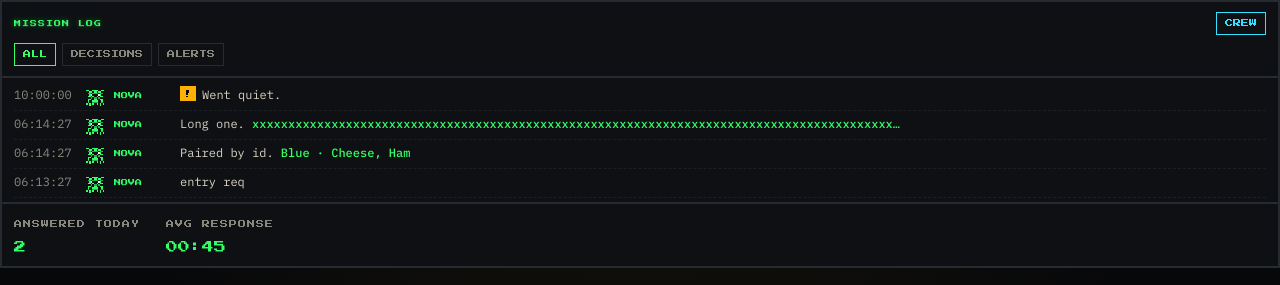
MissionLog › newest first; alerts filter; answers flatten, clip and average
Check: the text "Blue · Cheese, Ham" is shown, box [274,145,410,160]
Check: the text "2" is shown, box [14,241,26,253]
Click the tab "ALERTS": click(191, 55) [158,43,224,66]
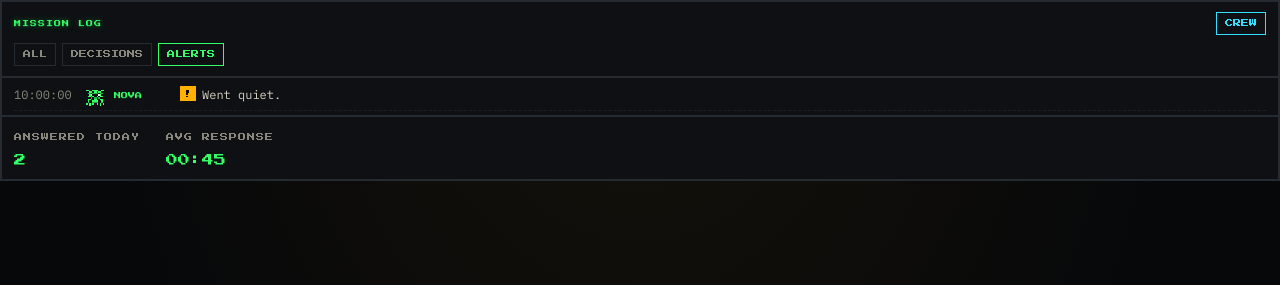
Check: the picture named "alert" is shown, box [180,86,196,101]
Check: the number of list items is 1, box [14,82,1266,111]
